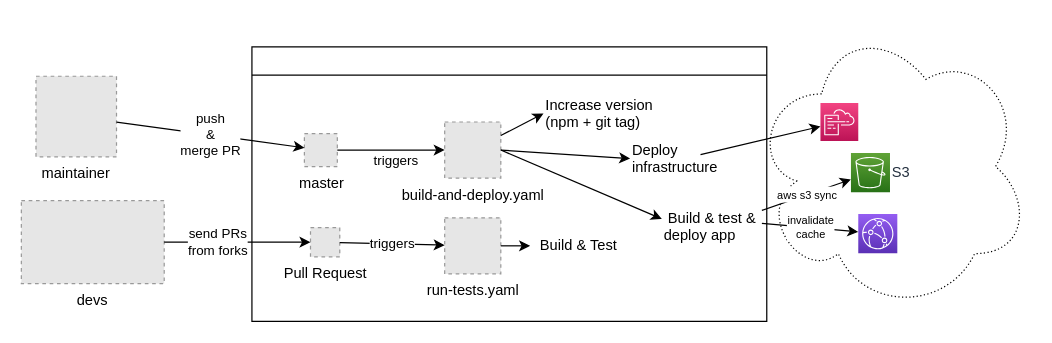
The diagram is 1052 pixels wide and 343 high, and some of its shapes have lost their labels. Grey dashed boxes stand in for pictures. Here are the shapes that lost their labels. From the top down, the box of each, then its label:
(819, 102, 858, 141): CloudFormation
(251, 46, 767, 321): Repository privacy.sexy
(857, 213, 897, 253): CloudFront
